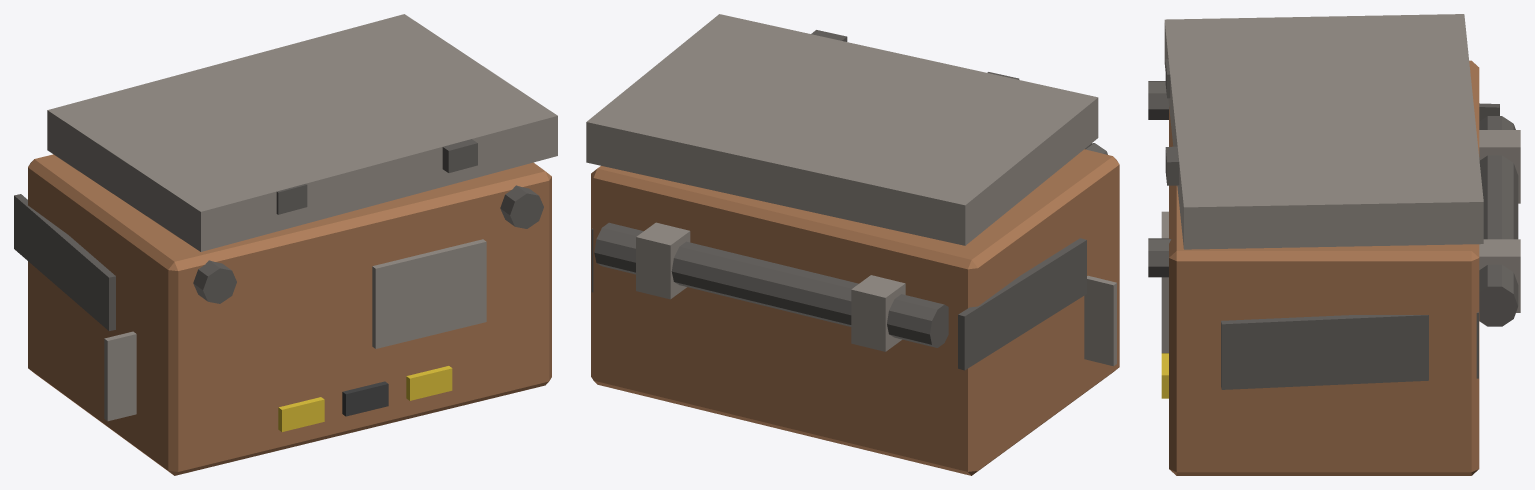
Rendered from ammo_industrial.glb.
3 renders of one model, left to right at view 1: azimuth 30°, elevation 25°; view 2: azimuth 150°, elevation 25°; view 3: azimuth 270°, elevation 25°, orthographic. The views are drawn at different scales.
Visible parts, largest first — view 1: body; view 2: body; view 3: body.
Part boxes in pixels (x1,y1,x2,y2): body: (14, 14, 557, 475); body: (586, 14, 1119, 475); body: (1148, 14, 1520, 475).
Bounding box in the file's own units: 1.01 × 0.59 × 0.72.
